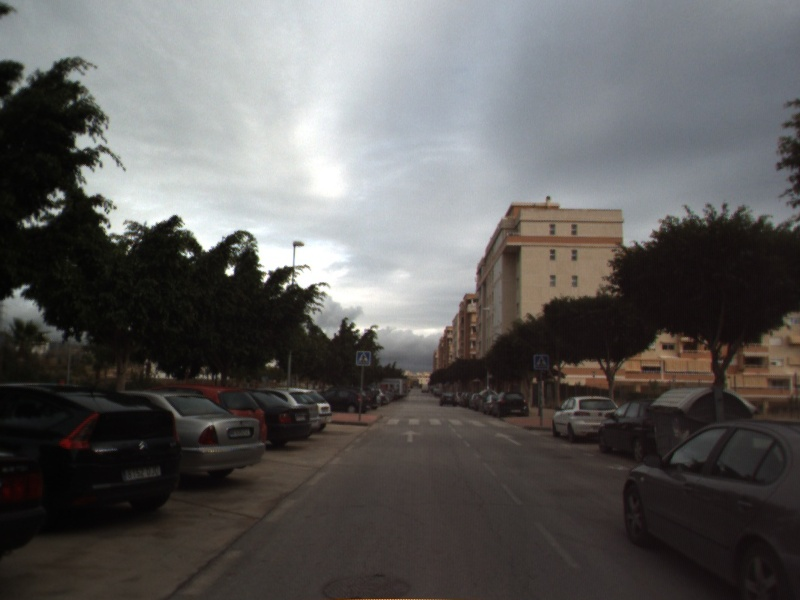STRAIGHT: (493, 430, 523, 447), (399, 428, 423, 444)
